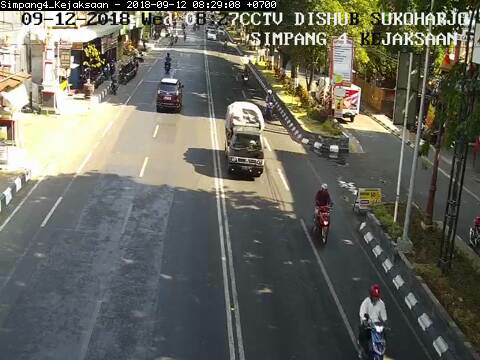motor: (356, 282, 395, 360), (312, 181, 333, 245), (264, 89, 277, 121)
